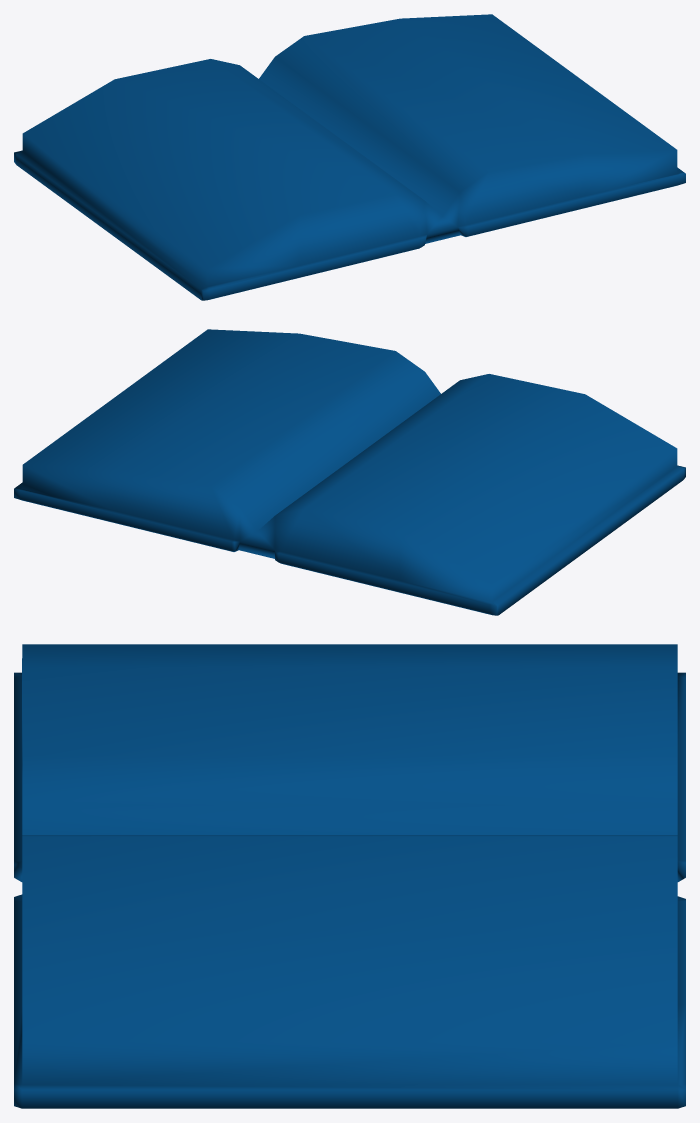
File: Book_Open_02.fbx
3 renders of one model, top to bottom at view 1: azimuth 30°, elevation 25°; view 2: azimuth 150°, elevation 25°; view 3: azimuth 270°, elevation 25°, orthographic. The views are drawn at different scales.
Visible parts, largest first — view 1: Book_Open_02; view 2: Book_Open_02; view 3: Book_Open_02.
Boxes of the visible parts, x1,y1,x2,y2 form: Book_Open_02: (14, 14, 685, 300); Book_Open_02: (14, 329, 685, 615); Book_Open_02: (14, 644, 685, 1108).
Size of the model in its own units: 46.77 by 5.85 by 31.85.
